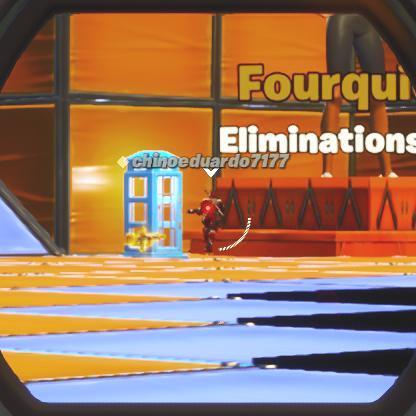person: (203, 190, 228, 244)
